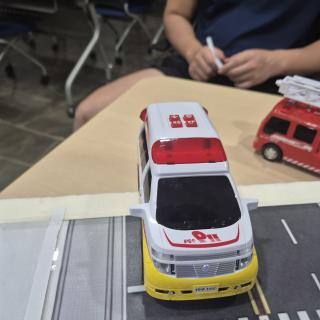Ambulance: (130, 102, 258, 300)
